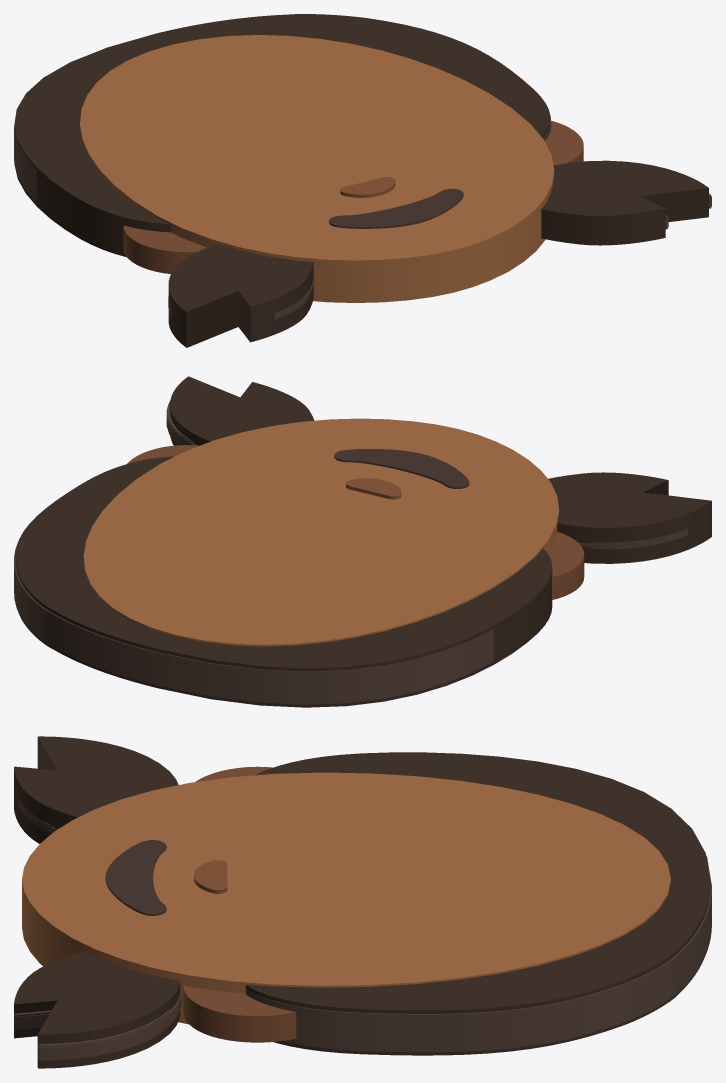
Rendered from emoji_u1f467_1f3fe.glb.
3 renders of one model, top to bottom at view 1: azimuth 30°, elevation 25°; view 2: azimuth 150°, elevation 25°; view 3: azimuth 270°, elevation 25°, orthographic. The views are drawn at different scales.
Visible parts, largest first — view 1: emoji_u1f467_1f3fe; view 2: emoji_u1f467_1f3fe; view 3: emoji_u1f467_1f3fe.
Part boxes in pixels (x1,y1,x2,y2): emoji_u1f467_1f3fe: (14, 14, 711, 347); emoji_u1f467_1f3fe: (14, 376, 711, 707); emoji_u1f467_1f3fe: (14, 736, 711, 1068).
Bounding box in the file's own units: 0.0336 × 0.003 × 0.0335.
